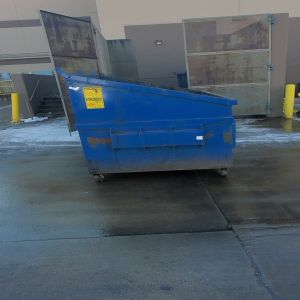Dumpster: (69, 76, 240, 192)
